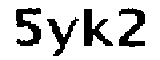2: (116, 3, 149, 53)
5: (10, 3, 45, 50)
k: (80, 6, 115, 53)
y: (45, 15, 82, 59)
